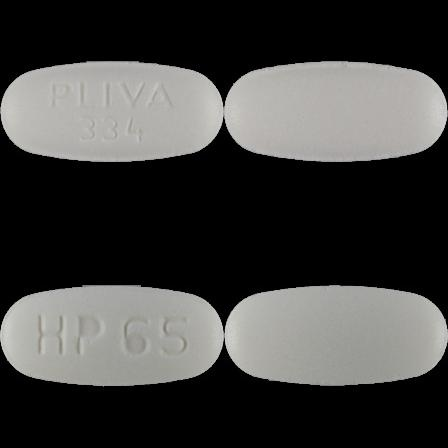51655-189: (0, 0, 224, 224)
